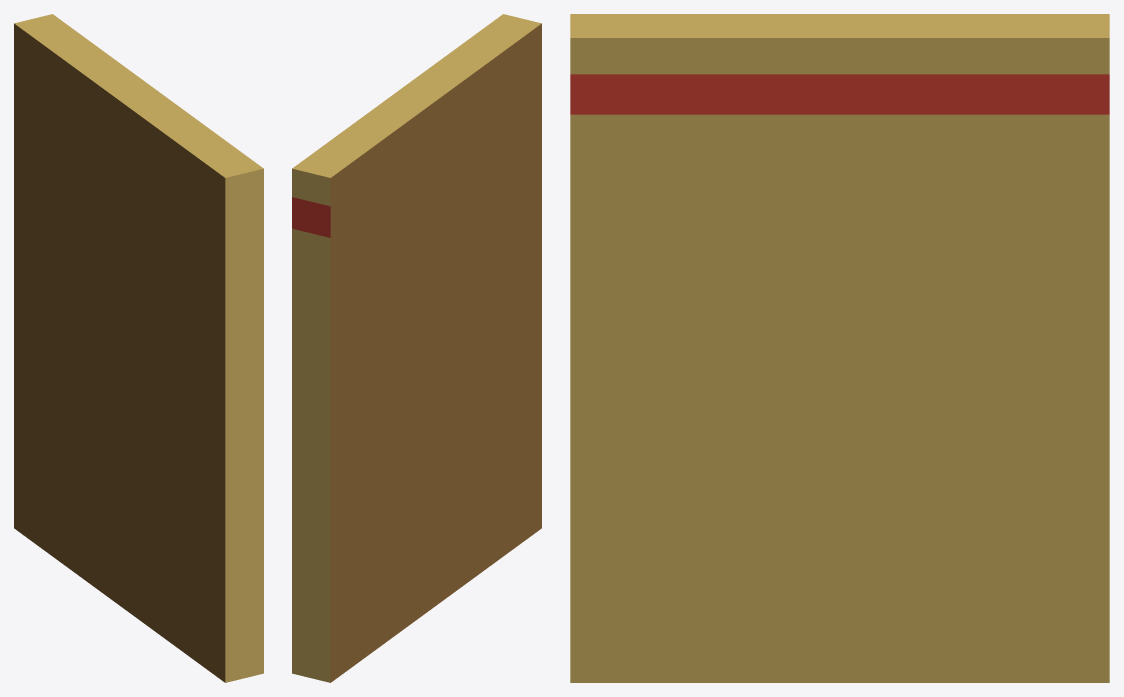
The model's file is Wall.fbx.
3 renders of one model, left to right at view 1: azimuth 30°, elevation 25°; view 2: azimuth 150°, elevation 25°; view 3: azimuth 270°, elevation 25°, orthographic. The views are drawn at different scales.
Visible parts, largest first — view 1: Wall; view 2: Wall; view 3: Wall.
Part boxes in pixels (x1=…): Wall: x1=14, y1=14, x2=263, y2=682; Wall: x1=292, y1=14, x2=541, y2=682; Wall: x1=570, y1=14, x2=1109, y2=682.
Size of the model in its own units: 43.01 by 538 by 408.
